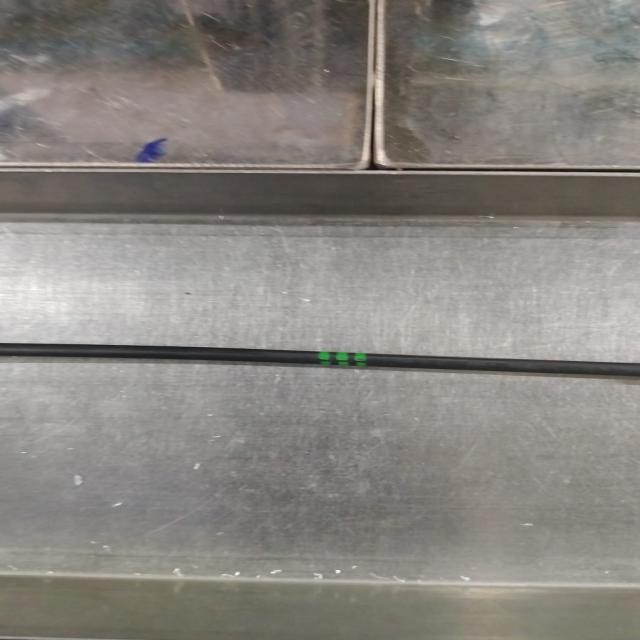green: (317, 351, 367, 366)
